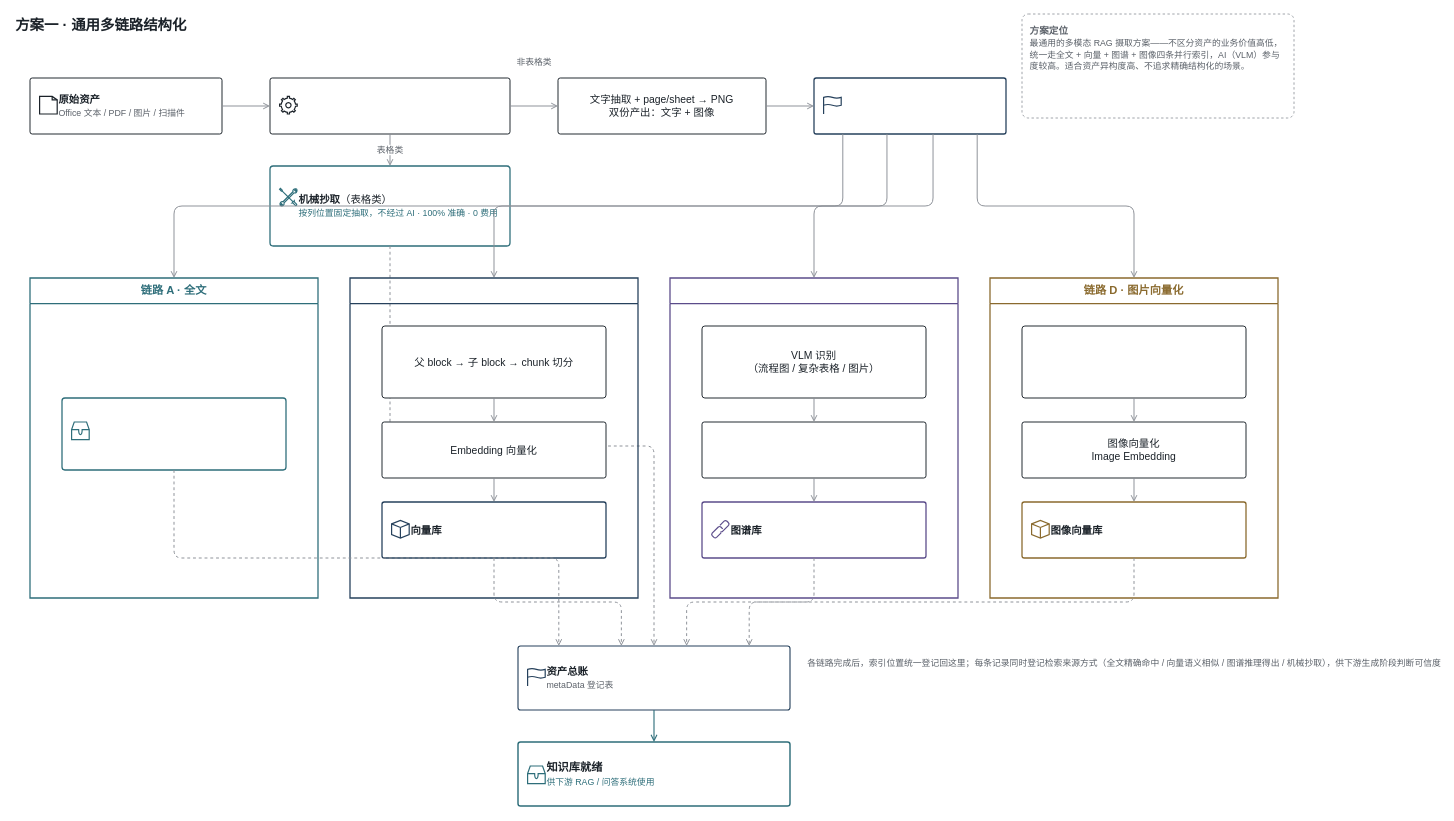
This 1454x821 diagram has some shape labels left out. The box of each missing label's shape, as (x1, y1, x2, y2) in pixels:
metaData 登录 来源 · 页码/sheet · 类型 · 时间戳: (813, 77, 1006, 134)
全文入库 全文检索 / FTS: (61, 397, 286, 470)
所有图片 （含 page/sheet PNG）: (1021, 325, 1246, 398)
扫描 & 类型判断 纯文本 / 复杂表格 / 流程图 / 图片: (269, 77, 510, 134)
转文字 → graph 化: (701, 421, 926, 478)
链路 B · 向量: (349, 277, 638, 598)
链路 C · VLM 识别: (669, 277, 958, 598)
